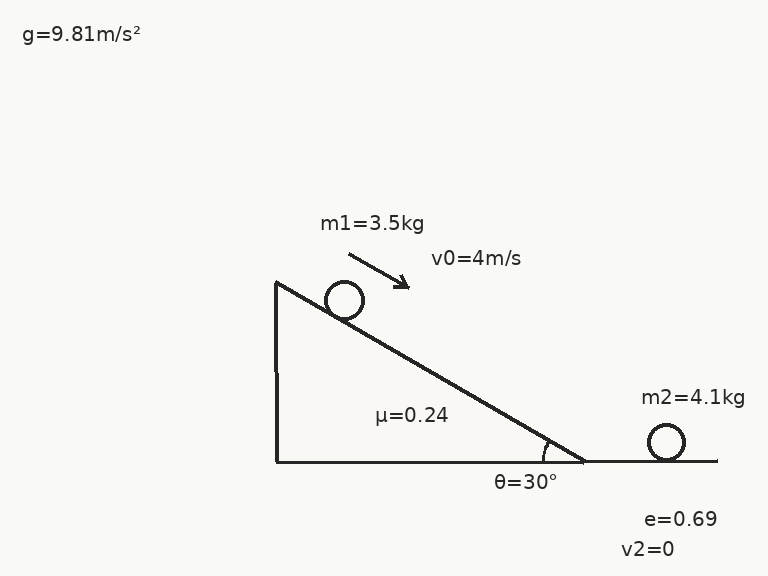ball: (322, 278, 366, 322), (645, 421, 687, 463)
ramp: (274, 281, 585, 463)
